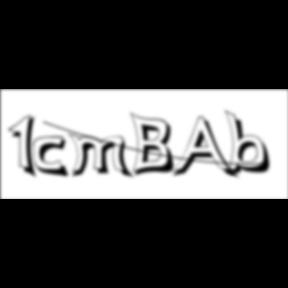1: (7, 114, 42, 182)
A: (172, 116, 240, 182)
B: (131, 111, 181, 179)
b: (224, 109, 278, 179)
c: (34, 136, 74, 180)
m: (68, 132, 136, 181)
